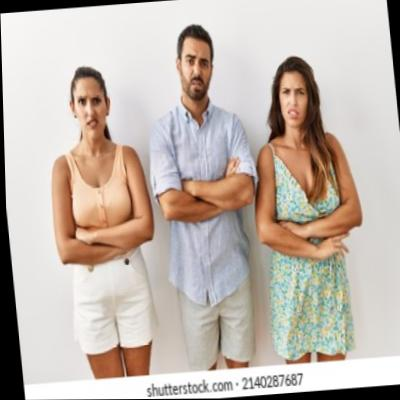angry: (70, 81, 109, 142)
sad: (180, 38, 213, 98)
surprise: (277, 73, 310, 127)
